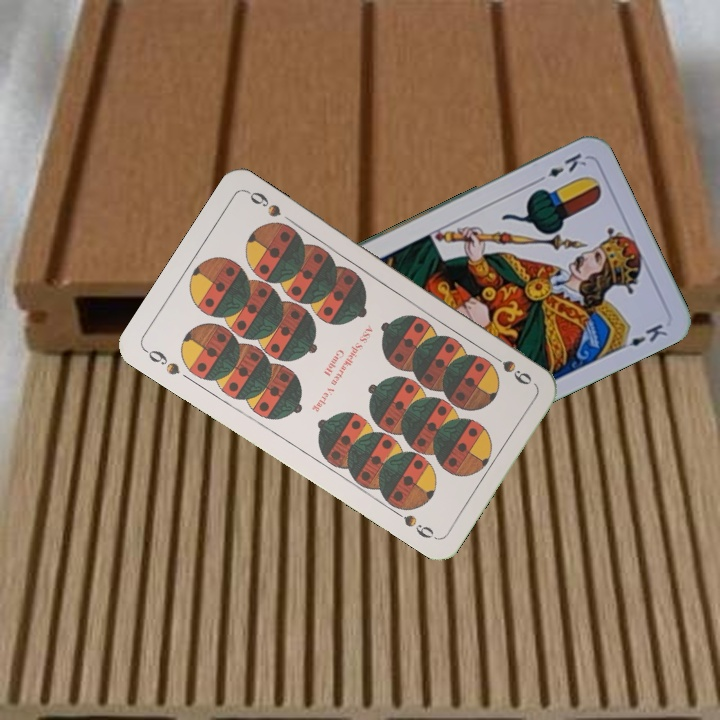EK: (532, 148, 589, 186)
S9: (484, 348, 535, 388), (140, 345, 183, 378)
